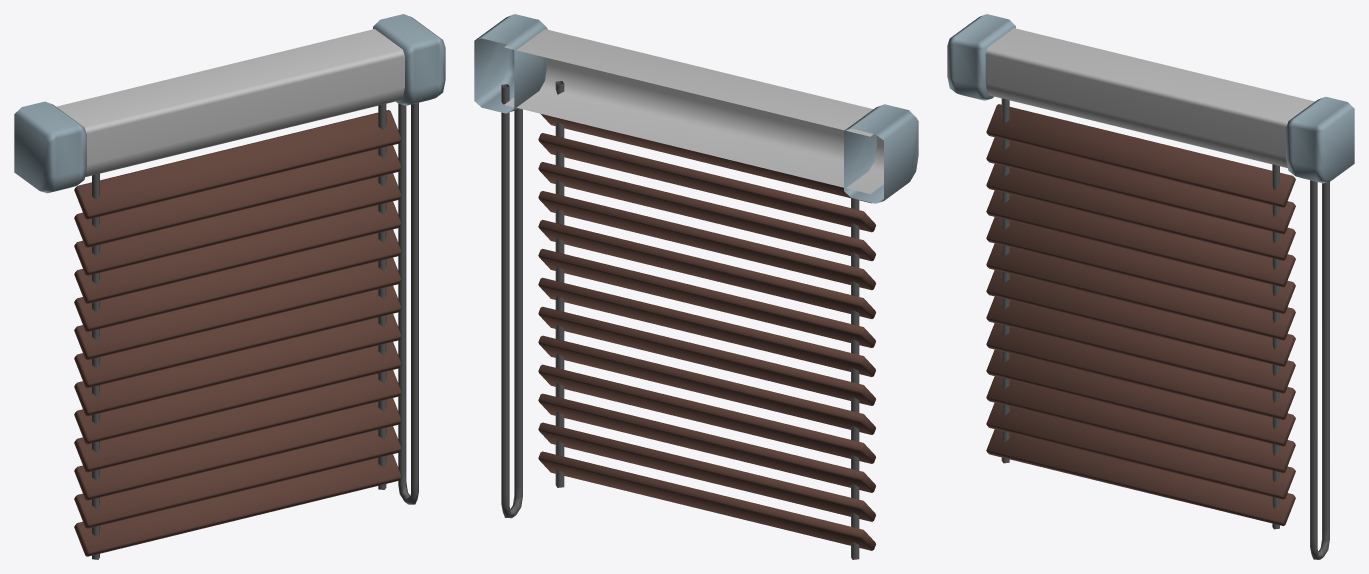
Rendered from curtain_027.fbx.
3 renders of one model, left to right at view 1: azimuth 30°, elevation 25°; view 2: azimuth 150°, elevation 25°; view 3: azimuth 330°, elevation 25°, orthographic. The views are drawn at different scales.
Visible parts, largest first — view 1: curtain_027; view 2: curtain_027; view 3: curtain_027.
Boxes of the visible parts, bbox=[...] form: curtain_027: bbox=[14, 14, 445, 559]; curtain_027: bbox=[474, 14, 918, 559]; curtain_027: bbox=[947, 14, 1354, 559].
Size of the model in its own units: 200 by 30.34 by 229.
